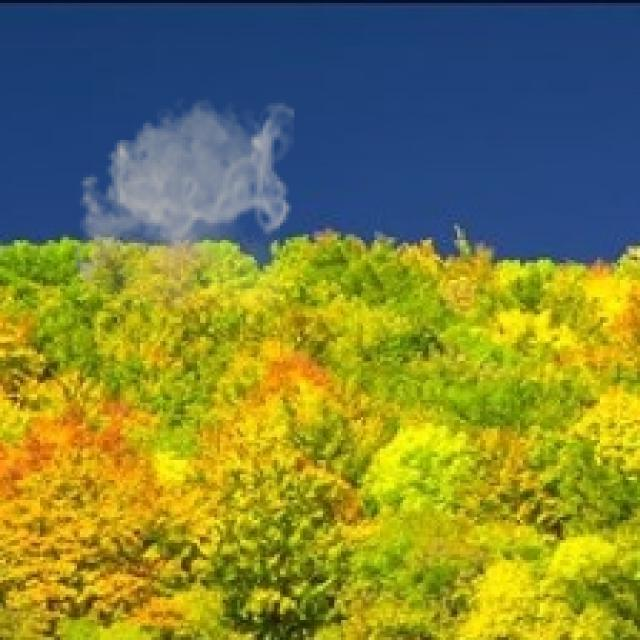smoke: (66, 92, 294, 308)
